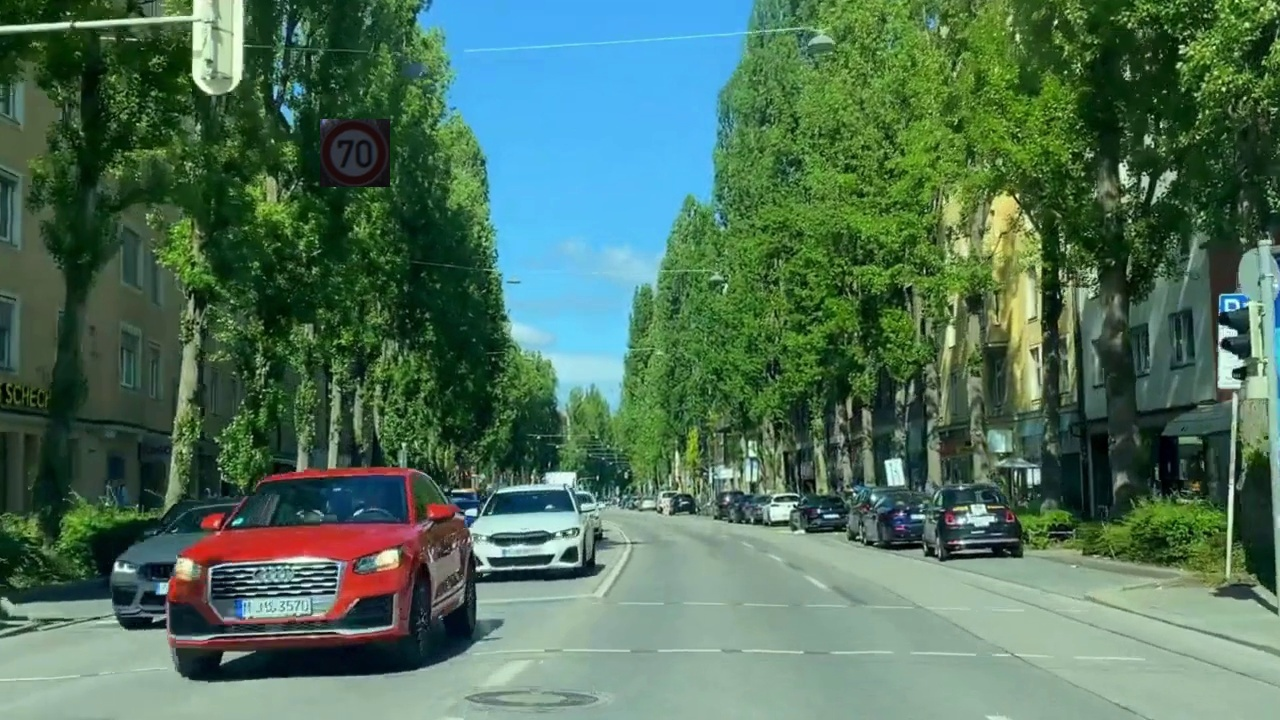Speed 70: (320, 119, 390, 187)
